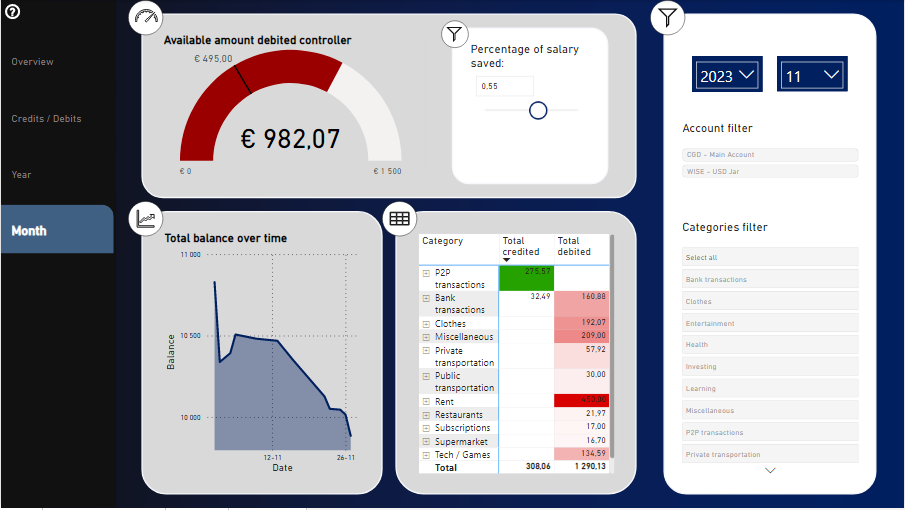

The dashboard page shown, as its layout file describes it:
{"tool":"powerbi","page":{"name":"Month","canvas":[1280,720],"ordinal":3},"visuals":[{"type":"slicer","fields":{"Values":["Calendar.Month"]},"box":[1100,80,100.1,50],"z":0},{"type":"slicer","title":"Percentage of salary saved:","fields":{"Values":["Salary % Saved.Salary % Saved"]},"box":[660,60,180,150],"z":1000},{"type":"gauge","title":"Available amount debited controller","fields":{"Y":["Debits.Real Amount Spent"],"TargetValue":["Credits.Available Expenditure Amount"]},"box":[220,40,380,220],"z":2000},{"type":"pageNavigator","box":[0,30,160,350],"z":3000},{"type":"pivotTable","fields":{"Rows":["Categories.Category","Stores.Store"],"Values":["Sum(Credits.Transaction)","Sum(Debits.Transaction)"]},"box":[581.3,319.6,299.4,360],"z":4000},{"type":"stackedAreaChart","title":"Total balance over time","fields":{"Category":["Calendar.Date"],"Y":["Sum(Balances.Balance)"]},"box":[220,320,300,360],"z":5000},{"type":"slicer","fields":{"Values":["Calendar.Year"]},"box":[980,80,100,50.6],"z":6000},{"type":"advancedSlicerVisual","title":"Categories filter","fields":{"Values":["Categories.Category"]},"box":[960,310,260,370],"z":7000},{"type":"advancedSlicerVisual","title":"Account filter","fields":{"Values":["Accounts.Account_full_name"]},"box":[960,170,260,130],"z":8000},{"type":"actionButton","title":"Information button","box":[1.8,0.9,30,30],"z":10000}]}

Visuals, with their boxes on the page's 1280x720 design canvas (x1, y1, x2, y2). These are canvas units, not pixel positions in the 905x510 screenshot, which may show the page scaled, cropped or inside an application window:
slicer - Calendar.Month: (x1=1100, y1=80, x2=1200, y2=130)
"Percentage of salary saved:" slicer: (x1=660, y1=60, x2=840, y2=210)
"Available amount debited controller" gauge: (x1=220, y1=40, x2=600, y2=260)
pageNavigator: (x1=0, y1=30, x2=160, y2=380)
pivotTable - Categories.Category x Stores.Store: (x1=581, y1=320, x2=881, y2=680)
"Total balance over time" stackedAreaChart: (x1=220, y1=320, x2=520, y2=680)
slicer - Calendar.Year: (x1=980, y1=80, x2=1080, y2=131)
"Categories filter" advancedSlicerVisual: (x1=960, y1=310, x2=1220, y2=680)
"Account filter" advancedSlicerVisual: (x1=960, y1=170, x2=1220, y2=300)
"Information button" actionButton: (x1=2, y1=1, x2=32, y2=31)
